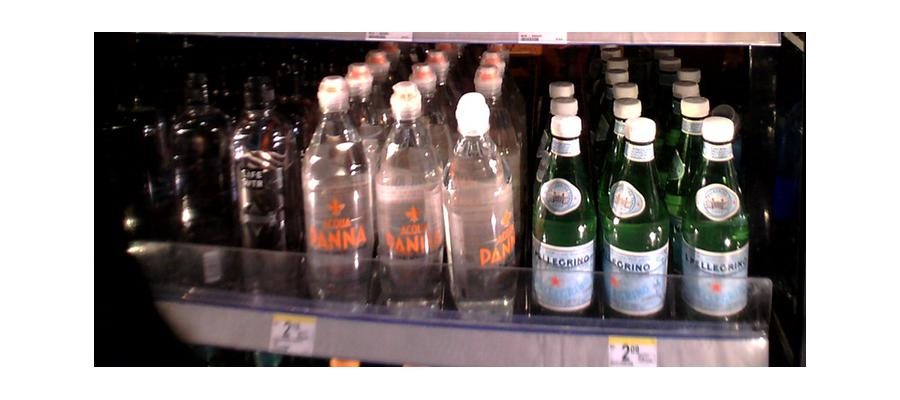bottle: (442, 94, 517, 318), (302, 77, 371, 307), (532, 89, 598, 324), (680, 115, 751, 326), (229, 85, 299, 299), (375, 92, 442, 313), (604, 110, 669, 322), (172, 71, 225, 269)
